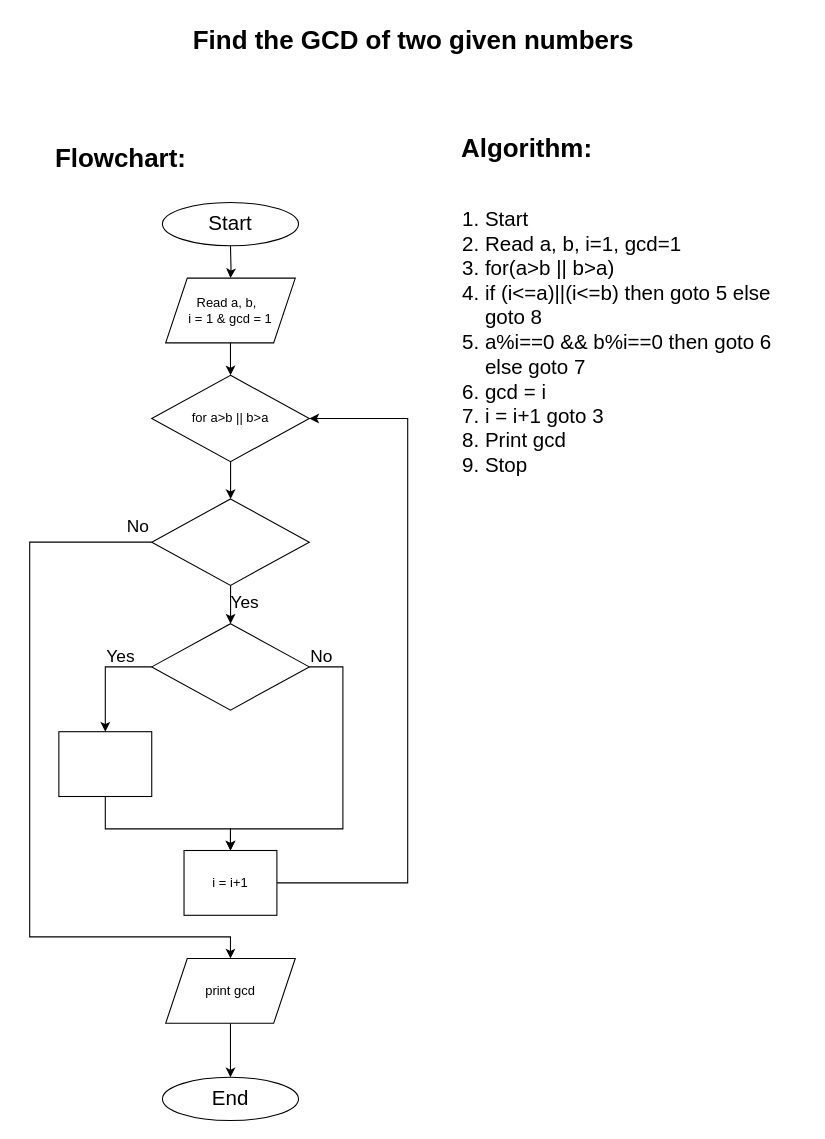
This 825x1139 diagram has some shape labels left out. Each missing label, with the centre of its shape:
"(i<=a)||(i<=b)" goes at [230,541].
"a%i==0 && b%i==0" goes at [230,666].
"gcd = i" goes at [105,763].
